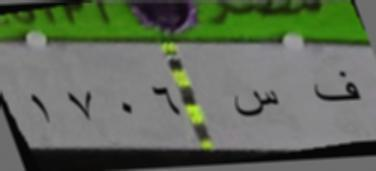0: (118, 96, 138, 119)
1: (28, 87, 55, 129)
6: (147, 81, 182, 126)
7: (64, 90, 99, 128)
faa: (309, 66, 365, 110)
seen: (229, 82, 282, 122)
